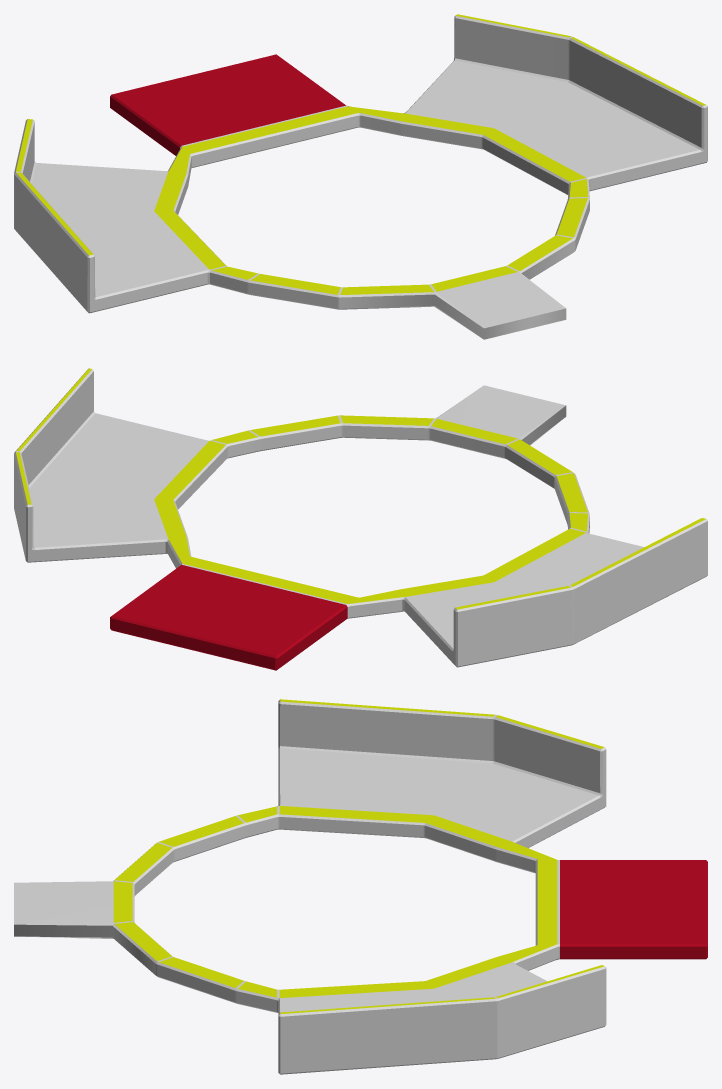
The model's file is DefualtSceneModel.fbx.
3 views of the same model, one above another, from view 1: azimuth 30°, elevation 25°; view 2: azimuth 150°, elevation 25°; view 3: azimuth 270°, elevation 25° (orthographic). The views are drawn at different scales.
Visible parts, largest first — view 1: DefaultSceneModel; view 2: DefaultSceneModel; view 3: DefaultSceneModel.
Boxes of the visible parts, x1=… form: DefaultSceneModel: x1=14, y1=14, x2=707, y2=339; DefaultSceneModel: x1=14, y1=368, x2=707, y2=670; DefaultSceneModel: x1=14, y1=699, x2=707, y2=1074.
Size of the model in its own units: 89.14 by 7.95 by 82.62.
